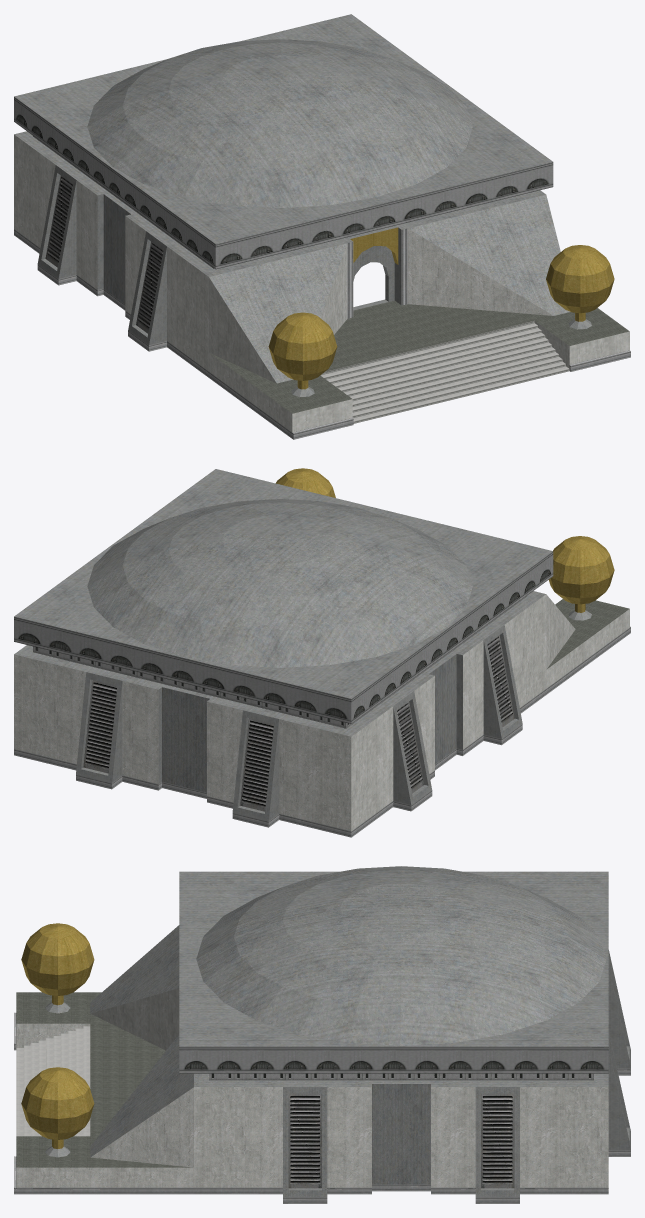
Rendered from mun_corl_guild_commerce_s01_r0_exterior_mesh_corl_guildcommerce_l0.fbx.
3 renders of one model, top to bottom at view 1: azimuth 30°, elevation 25°; view 2: azimuth 150°, elevation 25°; view 3: azimuth 270°, elevation 25°, orthographic. The views are drawn at different scales.
Parts seen in each view (by area): view 1: mesh_node; view 2: mesh_node; view 3: mesh_node.
Boxes of the visible parts, x1=… form: mesh_node: x1=14, y1=14, x2=630, y2=439; mesh_node: x1=14, y1=468, x2=630, y2=837; mesh_node: x1=14, y1=866, x2=630, y2=1203.
Size of the model in its own units: 38.75 by 18.75 by 52.08.
